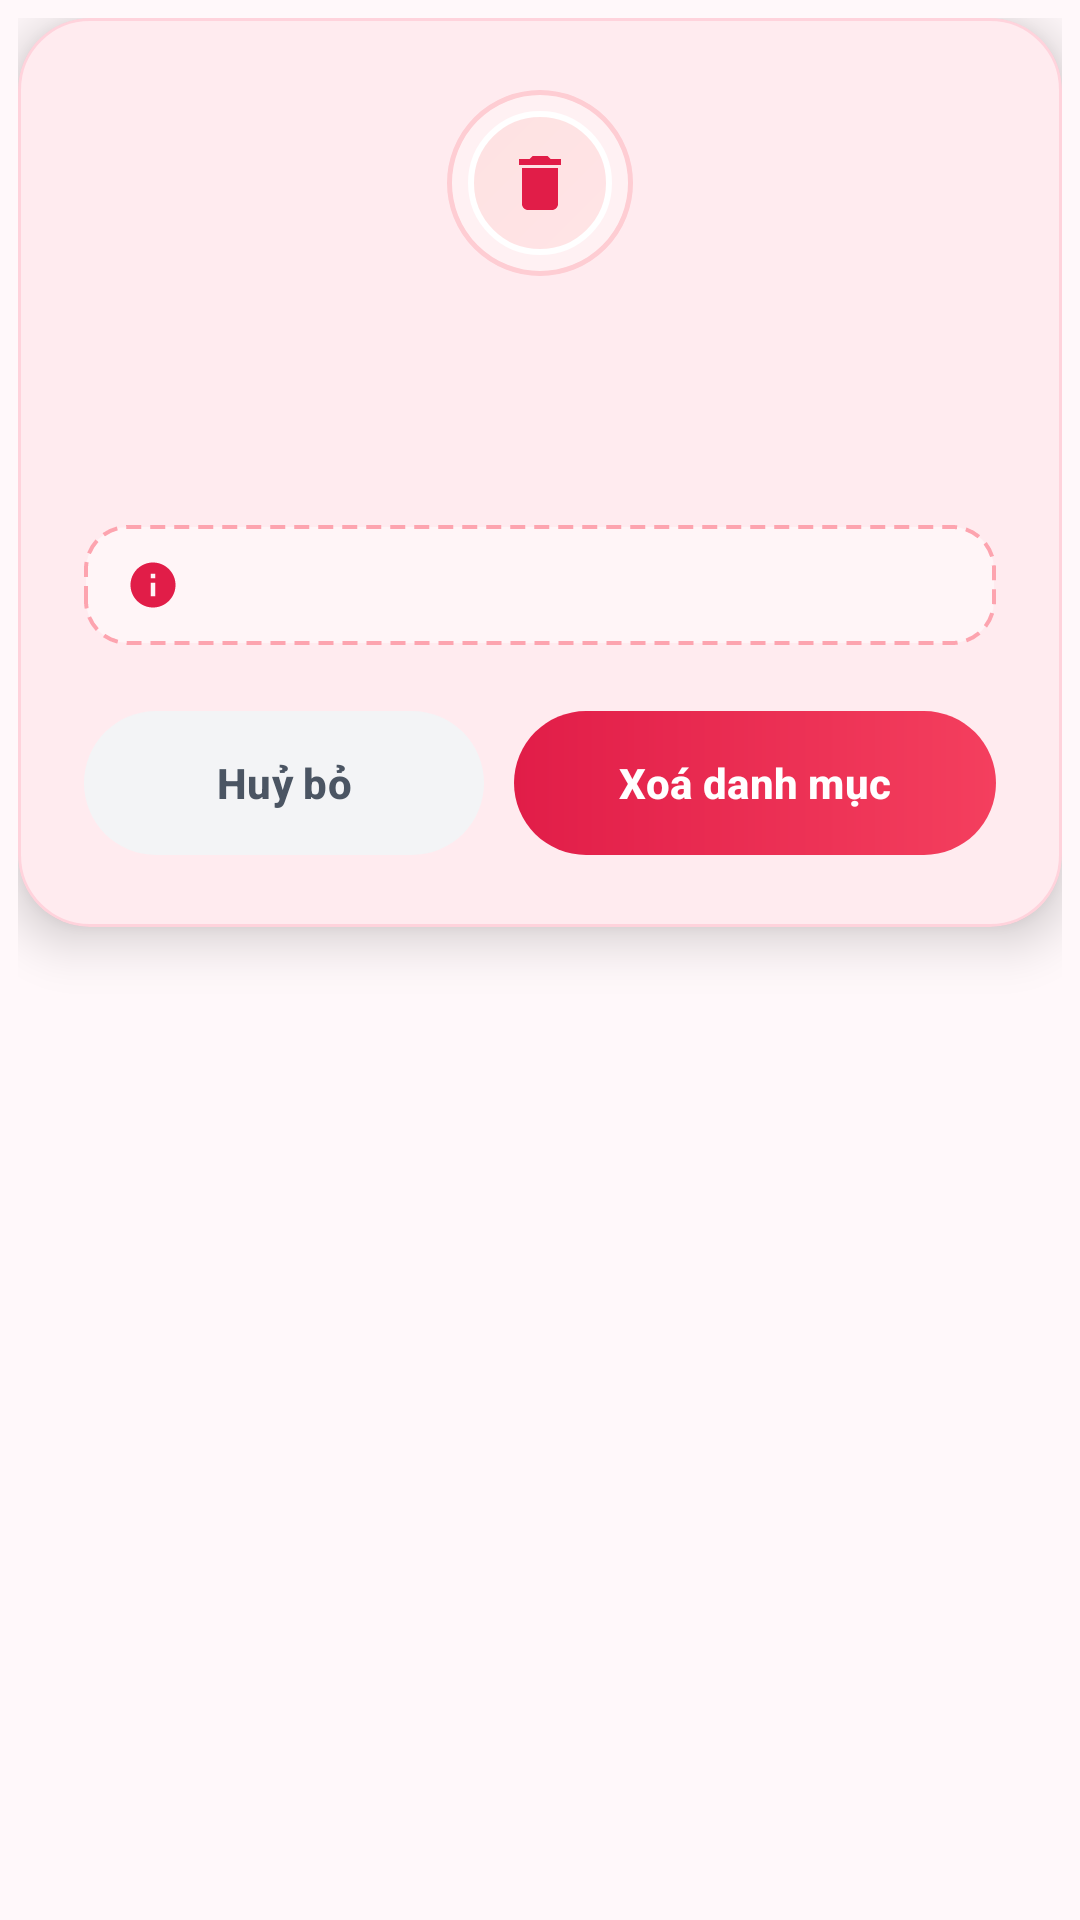

Icon bounding boxes for this 1080*1920 phone screenshot, format (x1, y1, x2, y2):
delete: (519, 156, 561, 210)
info: (130, 562, 176, 608)
